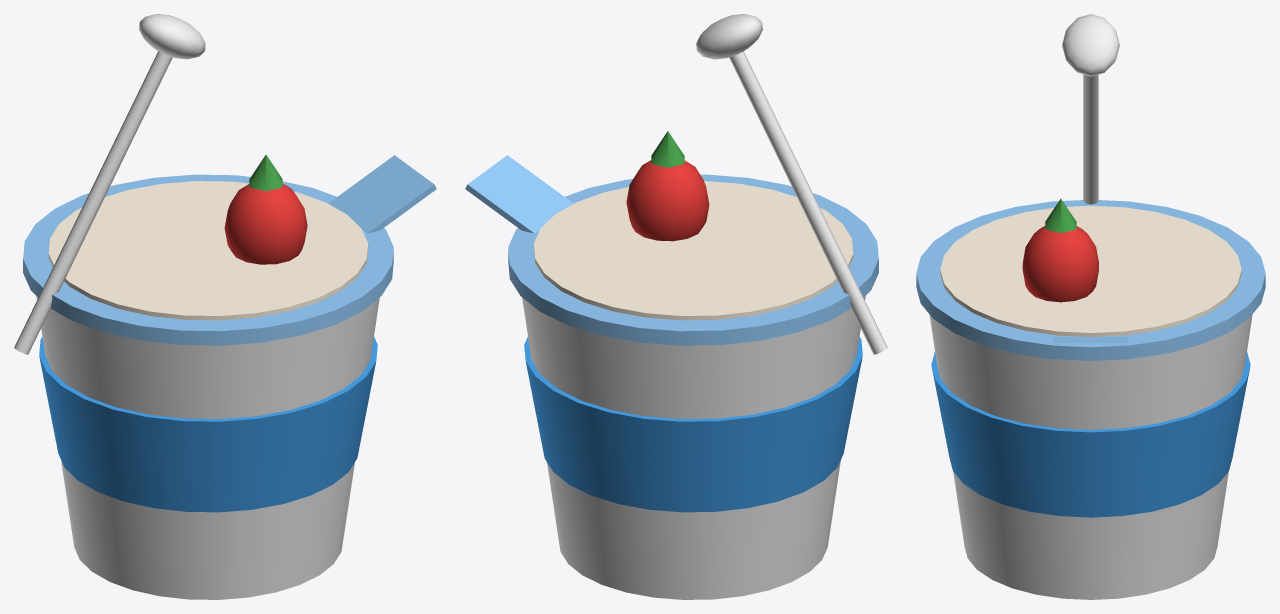
File: yogurt.glb
3 views of the same model, side by side, from view 1: azimuth 30°, elevation 25°; view 2: azimuth 150°, elevation 25°; view 3: azimuth 270°, elevation 25° (orthographic). The views are drawn at different scales.
Parts seen in each view (by area): view 1: yogurt; view 2: yogurt; view 3: yogurt.
Part boxes in pixels (bbox=[...]): yogurt: bbox=[14, 14, 436, 599]; yogurt: bbox=[465, 14, 887, 599]; yogurt: bbox=[916, 14, 1265, 599].
Bounding box in the file's own units: 1.45 × 1.85 × 1.16.
